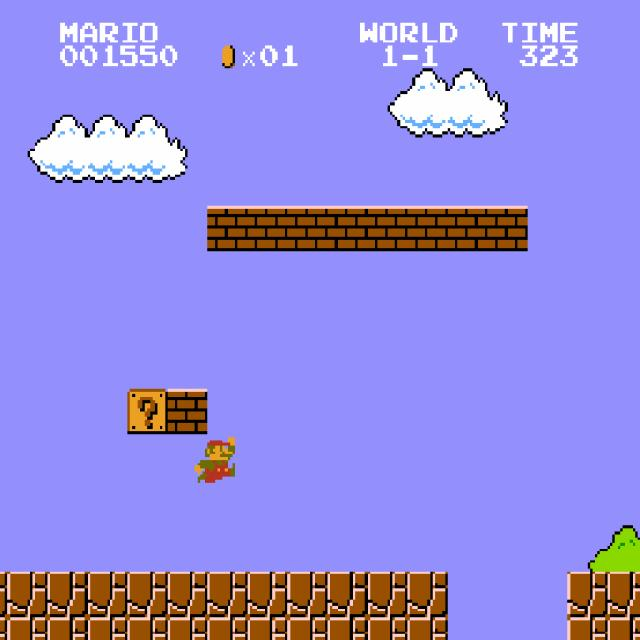brick_block: (167, 389, 208, 434), (207, 206, 248, 251), (247, 206, 288, 251), (287, 206, 328, 251), (327, 206, 368, 251), (367, 206, 408, 251), (407, 206, 448, 251), (447, 206, 488, 251), (487, 206, 528, 251)
little_mario: (192, 434, 235, 483)
mystery_block: (127, 389, 168, 434)
undestructible_block: (7, 572, 48, 617), (47, 572, 88, 617), (87, 572, 128, 617), (127, 572, 168, 617), (167, 572, 208, 617), (207, 572, 248, 617), (247, 572, 288, 617), (287, 572, 328, 617), (327, 572, 368, 617), (367, 572, 408, 617), (407, 572, 448, 617), (567, 572, 608, 617), (607, 571, 640, 617), (7, 617, 48, 640), (47, 617, 88, 640), (87, 617, 128, 640), (127, 617, 168, 640), (167, 617, 208, 640), (207, 617, 248, 640), (247, 617, 288, 640), (287, 617, 328, 640), (327, 617, 368, 640), (367, 617, 408, 640), (407, 617, 448, 640), (567, 617, 608, 640), (607, 617, 640, 639), (0, 572, 7, 617), (0, 617, 7, 640)
